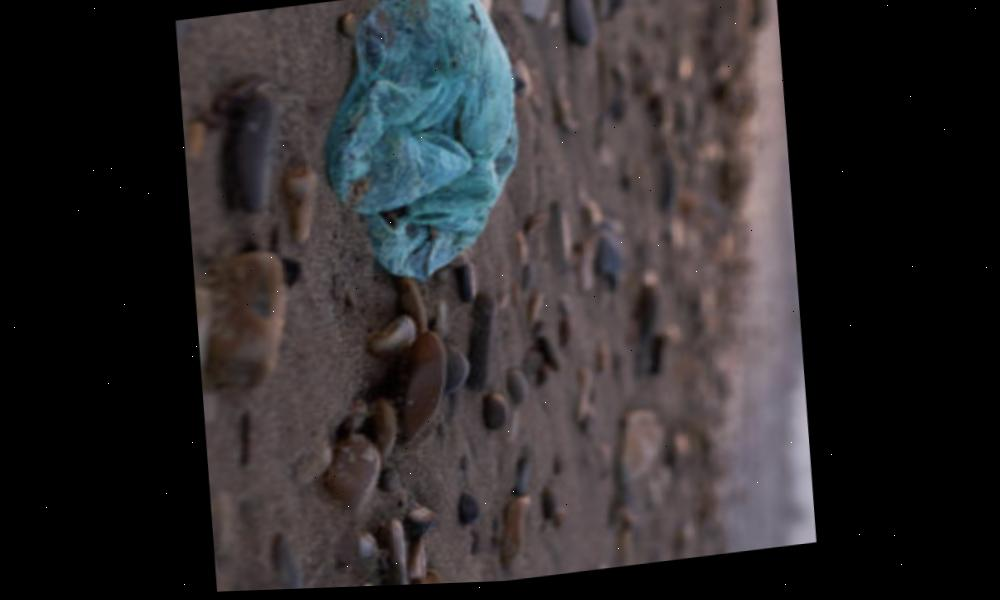plastic bag: (313, 0, 530, 294)
